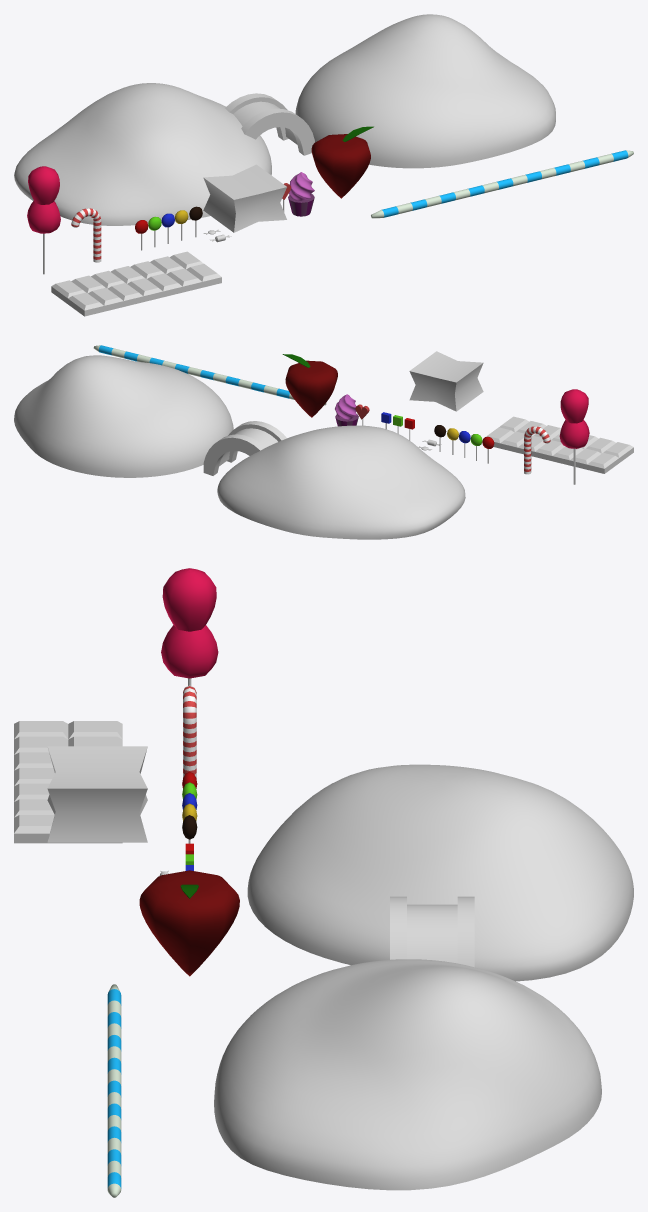
The model's file is 3D_Wrapper_1.FBX.
The picture shows the model from 3 angles, top to bottom: view 1: azimuth 30°, elevation 25°; view 2: azimuth 150°, elevation 25°; view 3: azimuth 270°, elevation 25°; orthographic projection. The views are drawn at different scales.
Parts seen in each view (by area): view 1: 3D_Hill_1, 3D_Hill_2, 3D_Chocokate_Bar, Box001, 3D_Bridge, 3D_Strawberry, 3D_CandySnake, 3D_CottonCandy, 3D_Cupcake, 3D_Candy_Cane; view 2: 3D_Hill_2, 3D_Hill_1, 3D_Chocokate_Bar, Box001, 3D_Strawberry, 3D_Bridge, 3D_CottonCandy, 3D_CandySnake, 3D_Cupcake, 3D_Candy_Cane; view 3: 3D_Hill_1, 3D_Hill_2, Box001, 3D_Strawberry, 3D_Chocokate_Bar, 3D_Bridge, 3D_CottonCandy, 3D_CandySnake, 3D_Candy_Cane.
Part boxes in pixels (x1,y1,x2,y2): 3D_Hill_1: (295,14,555,168); 3D_Hill_2: (14,83,271,225); 3D_Chocokate_Bar: (51,251,221,316); Box001: (203,164,286,232); 3D_Bridge: (225,93,314,155); 3D_Strawberry: (311,126,373,198); 3D_CandySnake: (371,150,633,218); 3D_CottonCandy: (27,166,60,274); 3D_Cupcake: (288,172,314,216); 3D_Candy_Cane: (71,208,101,262); 3D_Hill_2: (217,425,465,539); 3D_Hill_1: (14,355,233,477); 3D_Chocokate_Bar: (486,416,633,473); Box001: (409,351,483,411); 3D_Strawberry: (282,354,337,417); 3D_Bridge: (203,421,286,475); 3D_CottonCandy: (559,389,589,484); 3D_CandySnake: (93,345,326,405); 3D_Cupcake: (335,394,358,426); 3D_Candy_Cane: (524,426,550,474); 3D_Hill_1: (214,959,601,1190); 3D_Hill_2: (247,764,633,981); Box001: (47,746,147,842); 3D_Strawberry: (139,870,239,976); 3D_Chocokate_Bar: (14,721,122,843); 3D_Bridge: (390,896,474,967); 3D_CottonCandy: (161,568,218,685); 3D_CandySnake: (107,984,121,1197); 3D_Candy_Cane: (183,685,196,778).
Bounding box in the file's own units: 1310 × 241 × 741.
